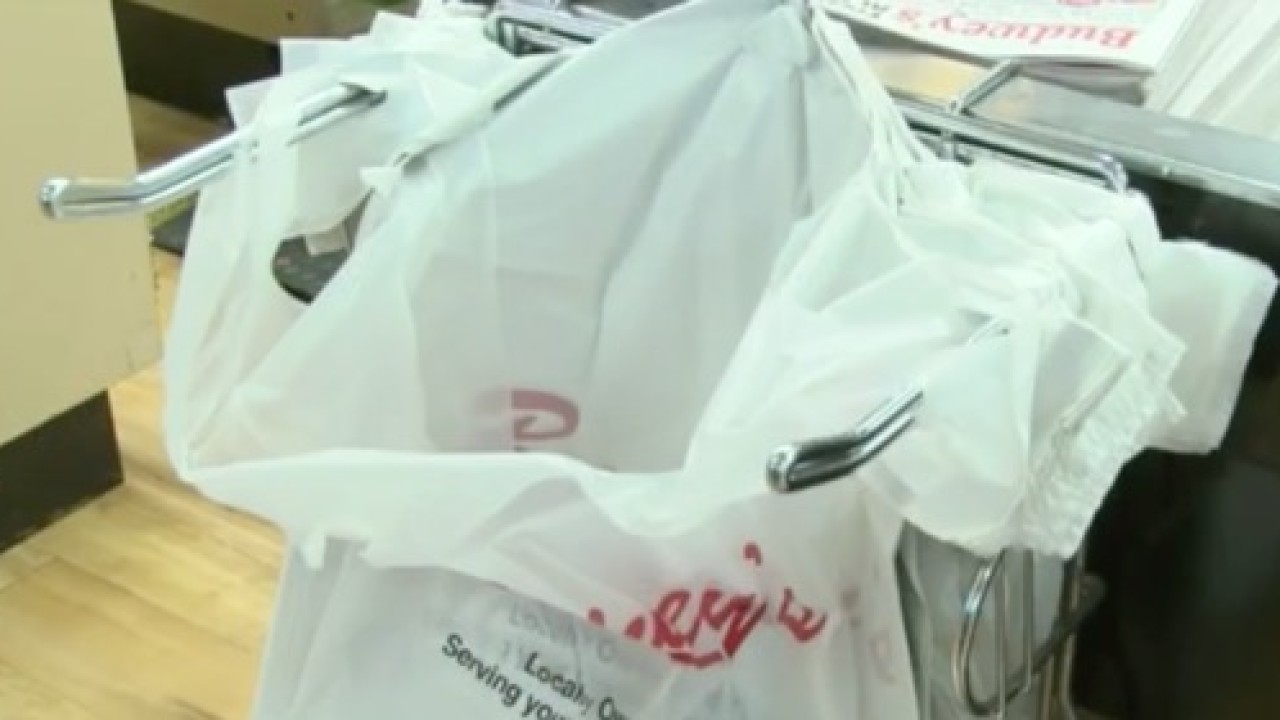plastic_bagwdw: (118, 99, 932, 720)
